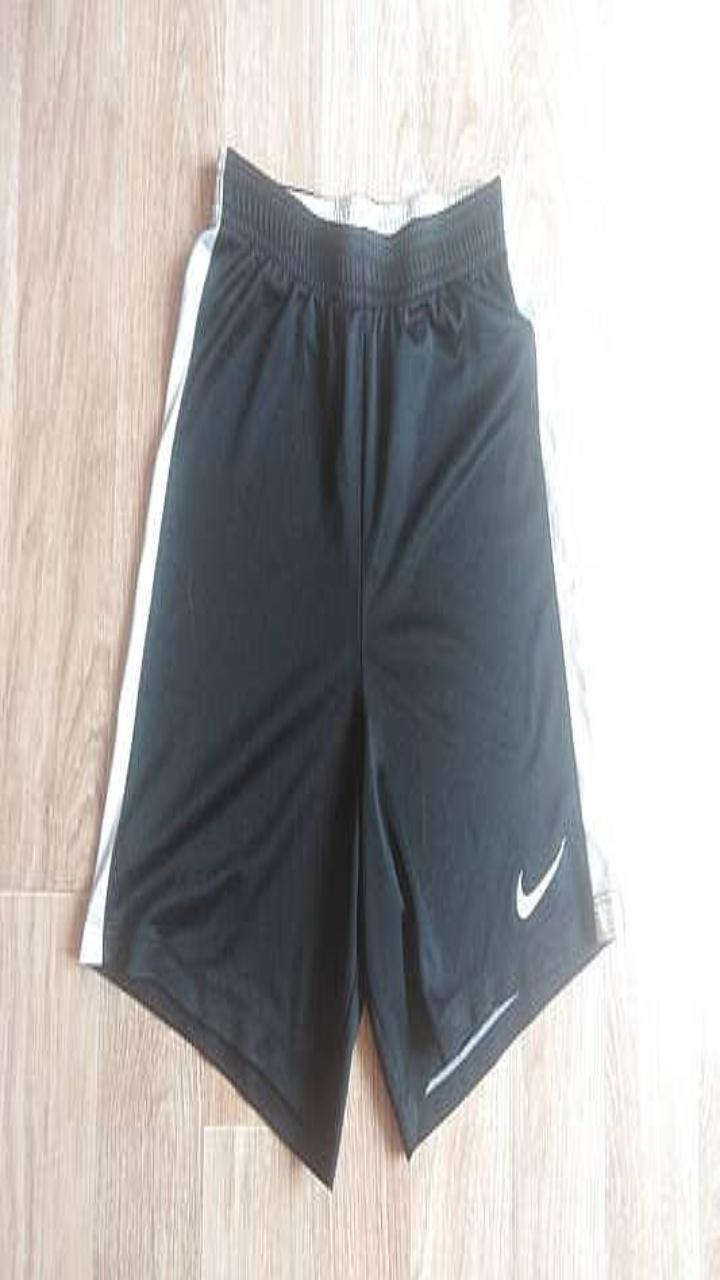Shorts: (80, 148, 613, 1186)
